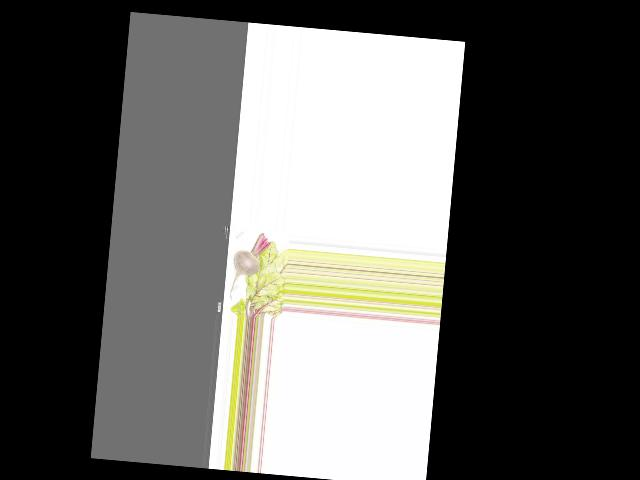beet: (229, 230, 271, 302)
